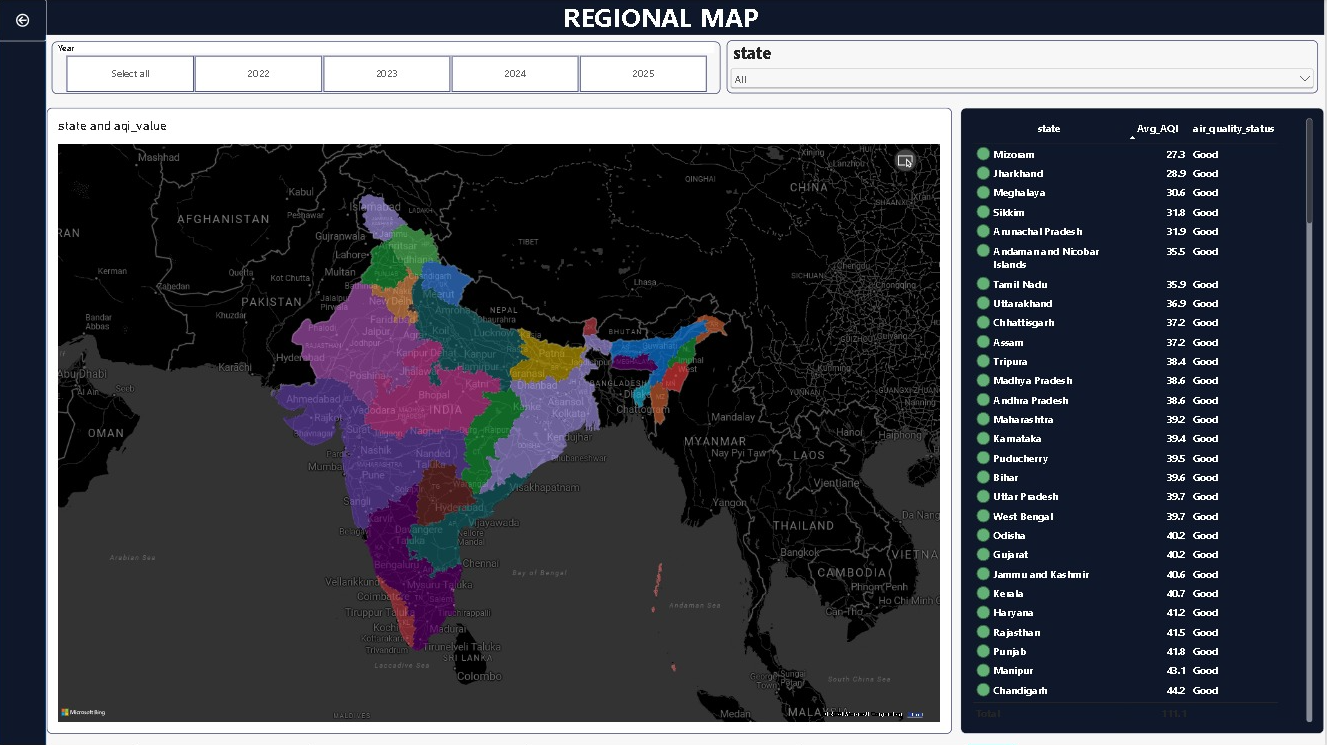

Layout of this report page (visuals, bound fields, positions):
{"tool":"powerbi","page":{"name":"Regional Map","canvas":[1920,1080],"ordinal":3},"visuals":[{"type":"shape","box":[0,0,69.8,1081.3],"z":0},{"type":"textbox","box":[0,0,1920.4,52.3],"z":1000},{"type":"actionButton","box":[0,0,70.6,61.5],"z":2000},{"type":"slicer","fields":{"Values":["cleaned_aqi.date.Variation.Date Hierarchy.Year"]},"box":[77.3,60.9,968.2,76.4],"z":3000},{"type":"slicer","fields":{"Values":["cleaned_aqi.state"]},"box":[1054.3,60,855.7,77.1],"z":4000},{"type":"filledMap","fields":{"Category":["cleaned_aqi.state"],"Series":["cleaned_aqi.aqi_value"]},"box":[70.6,157.4,1310.2,921.1],"z":5000},{"type":"tableEx","fields":{"Values":["cleaned_aqi.state","cleaned_aqi.Avg_AQI","cleaned_aqi.air_quality_status"]},"box":[1392.9,157.1,517.1,922.9],"z":6000}]}

Visuals, with their boxes in screenshot pixels (x1, y1, x2, y2), scaled from the page's 1920x1080 canvas onto the 1327x745 screenshot:
shape: locate(0, 0, 48, 744)
textbox: locate(0, 0, 1326, 36)
actionButton: locate(0, 0, 49, 42)
slicer - cleaned_aqi.date.Variation.Date Hierarchy.Year: locate(53, 42, 723, 95)
slicer - cleaned_aqi.state: locate(729, 41, 1320, 95)
filledMap - cleaned_aqi.state x cleaned_aqi.aqi_value: locate(49, 109, 954, 744)
tableEx - cleaned_aqi.state x cleaned_aqi.Avg_AQI: locate(963, 108, 1320, 744)
